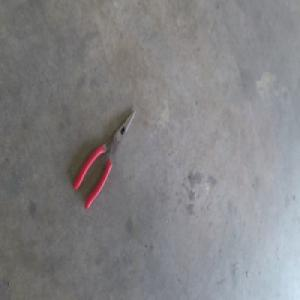Pliers: (73, 109, 135, 209)
